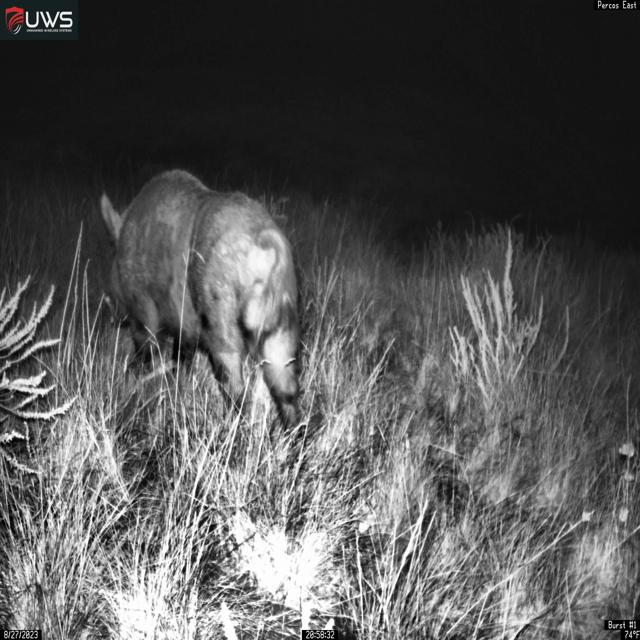pig: (99, 168, 304, 442)
